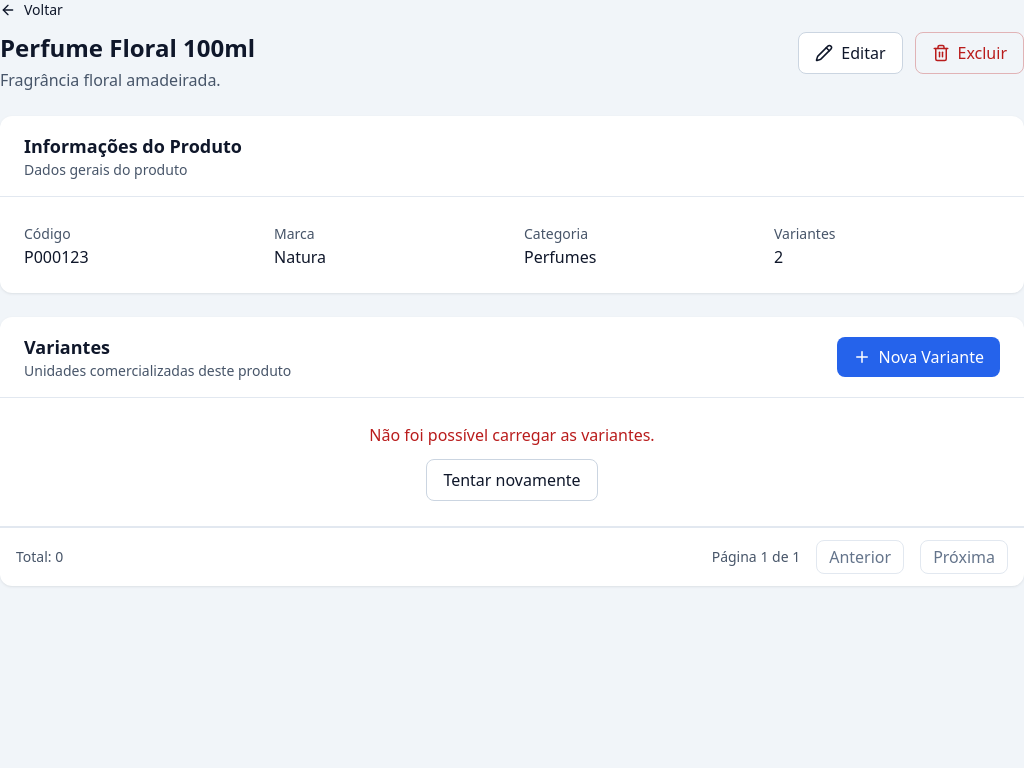
ProductDetailsPage › falha ao listar variantes mostra mensagem e "Tentar novamente" que refaz a consulta
The image size is (1024, 768).
Expected: the text "Não foi possível carregar as variantes." is shown, [369,423,655,447]
Step 1. Click the button "Tentar novamente" → point(512, 480), box [426,459,598,501]
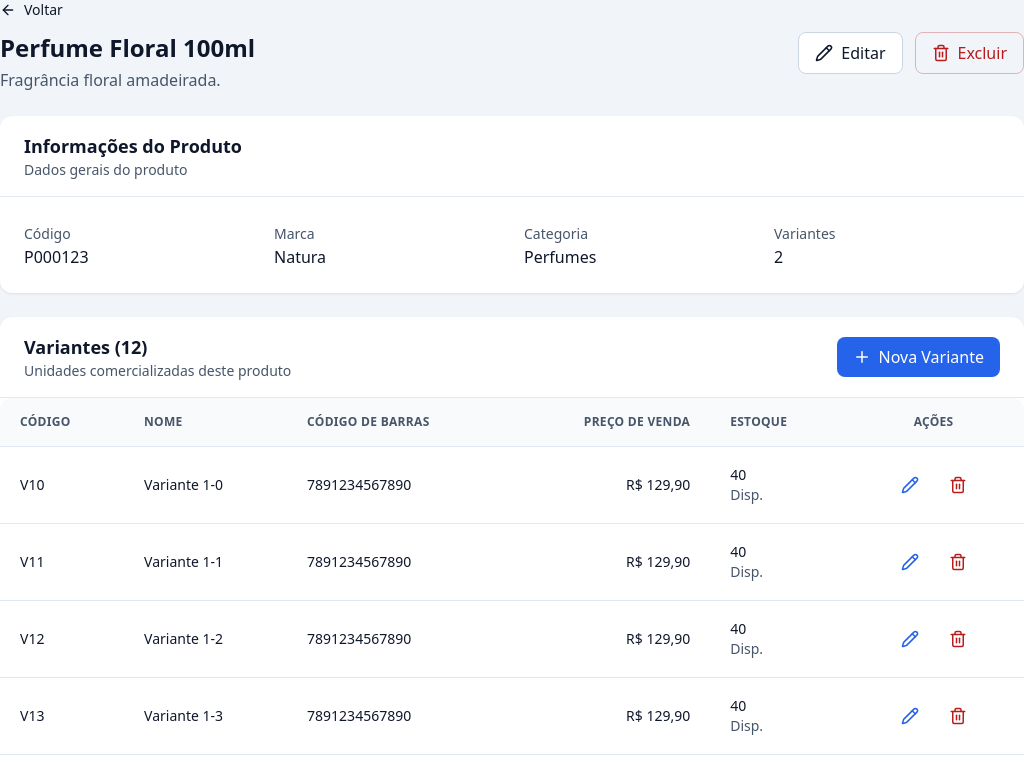
Result: the heading "Variantes (12)" is shown at [24,335,148,359]
Result: the text "Não foi possível carregar as variantes." is gone
